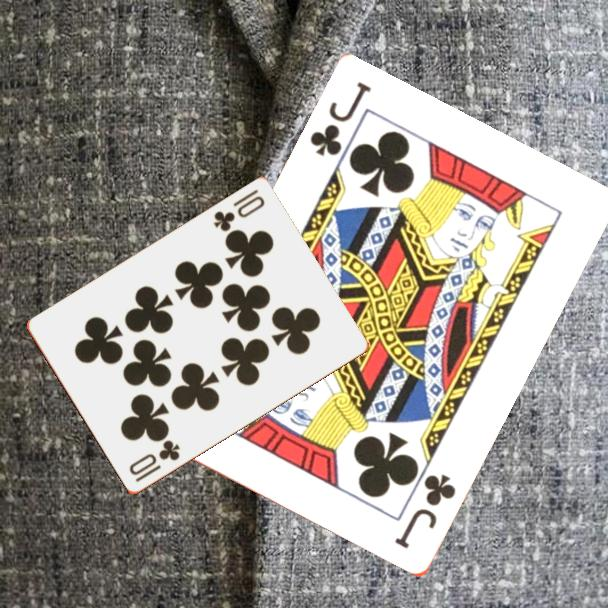c10: (125, 437, 183, 486), (210, 186, 268, 235)
c11: (306, 78, 375, 160), (391, 471, 459, 552)
